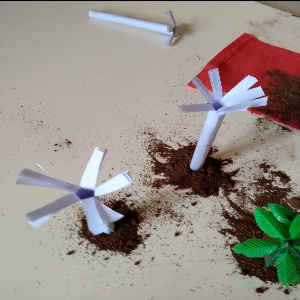plant: (222, 191, 300, 283)
weed: (12, 147, 121, 244), (178, 62, 248, 177), (86, 3, 202, 46)
